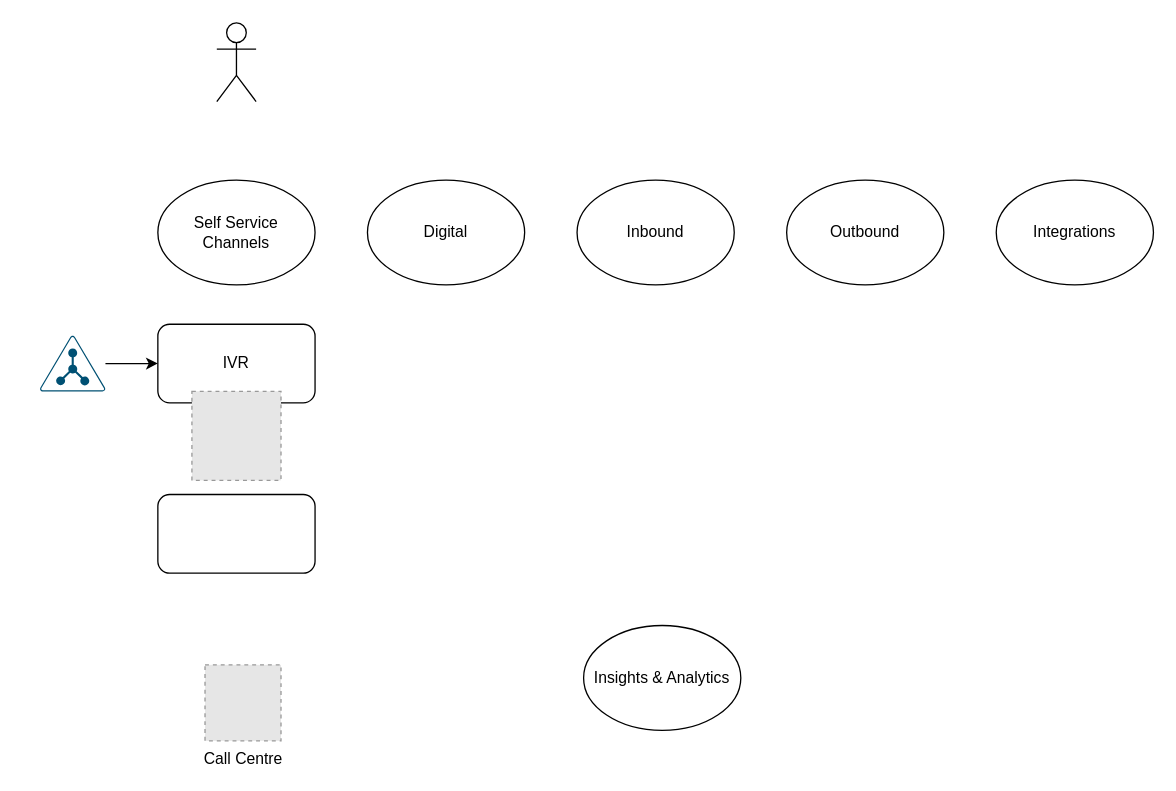
Some shapes in this 1176 by 791 pixel diagram are drawn without their labels. Grey dashed boxes stand in for pictures. Each missing label, with the centre of its shape:
"Authentication" belongs at [72,363].
"Customer" belongs at [235,62].
"Voicebots (AI driven)" belongs at [236,533].
